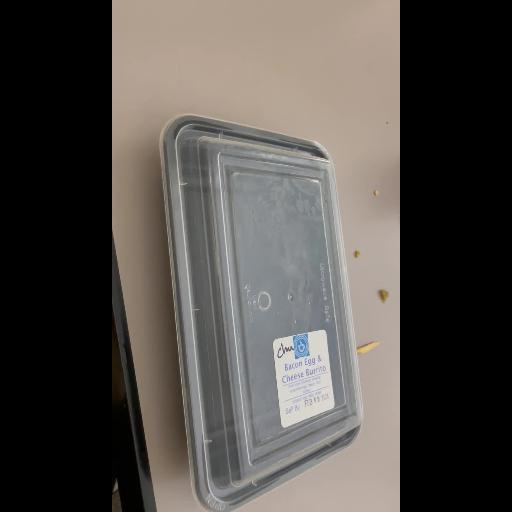rigid_plastic_container: (153, 109, 364, 512)
